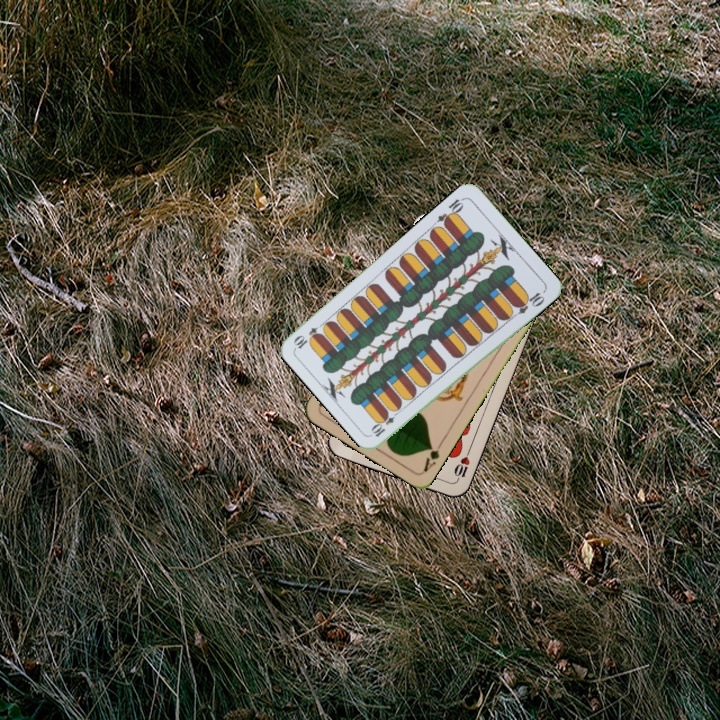E10: (433, 194, 467, 229), (368, 406, 402, 439)
GA: (419, 437, 445, 475)
H10: (450, 446, 473, 485)
